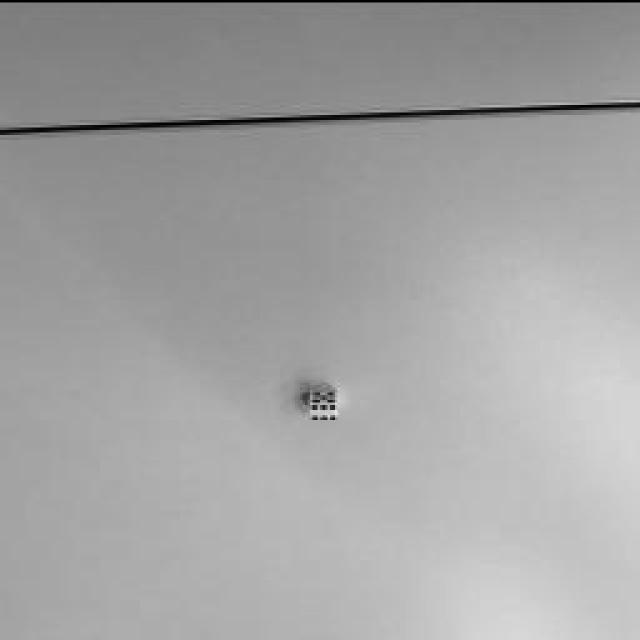dice_6: (309, 401, 339, 419)
